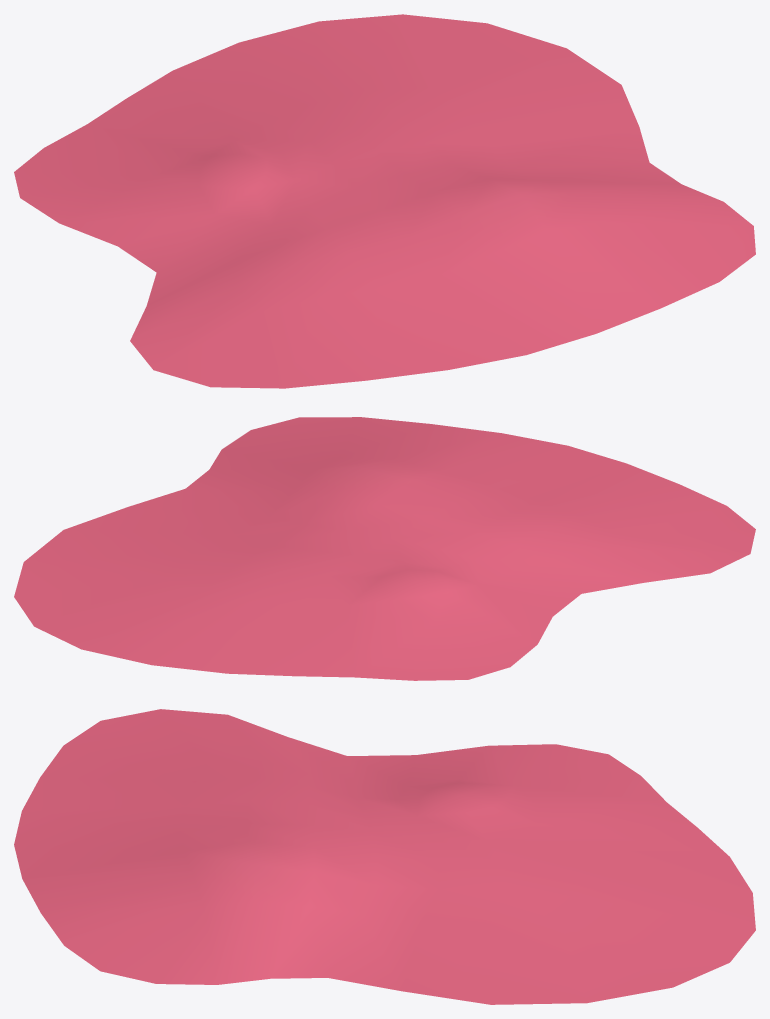
The model's file is mdl_ground_bump.fbx.
3 renders of one model, top to bottom at view 1: azimuth 30°, elevation 25°; view 2: azimuth 150°, elevation 25°; view 3: azimuth 270°, elevation 25°, orthographic. The views are drawn at different scales.
Visible parts, largest first — view 1: mdl_ground_bump; view 2: mdl_ground_bump; view 3: mdl_ground_bump.
Boxes of the visible parts, x1=… form: mdl_ground_bump: x1=14, y1=14, x2=755, y2=388; mdl_ground_bump: x1=14, y1=417, x2=755, y2=680; mdl_ground_bump: x1=14, y1=709, x2=755, y2=1004.
Bounding box in the file's own units: 11.25 × 0.6277 × 11.93.
